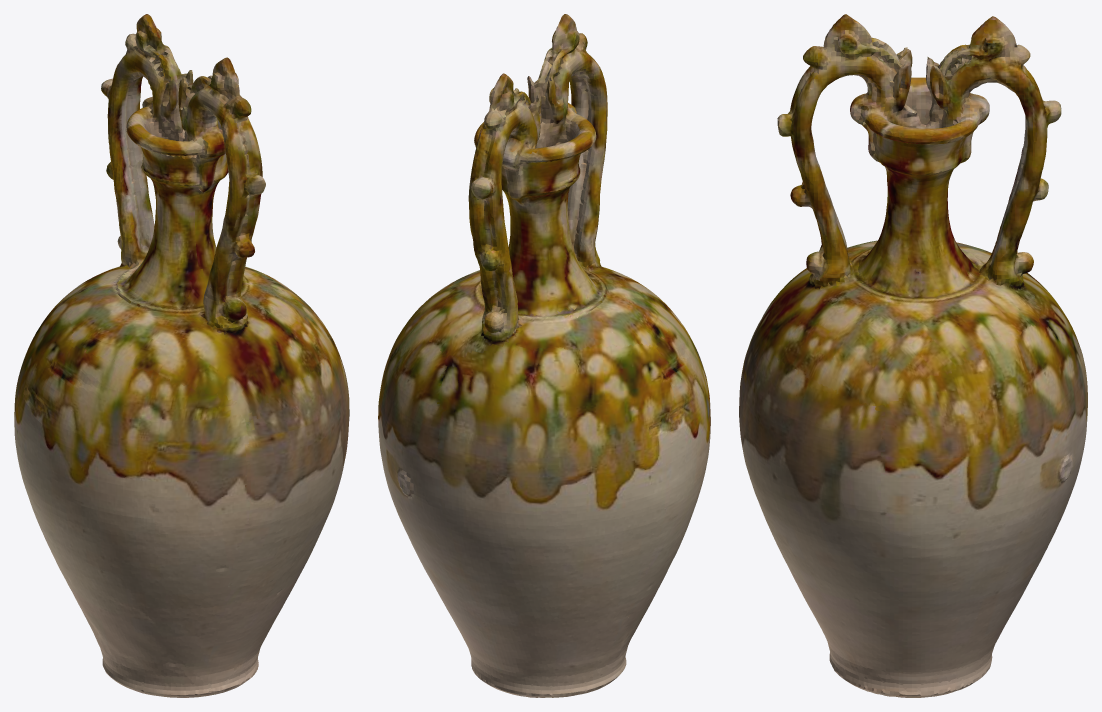
3 views of the same model, side by side, from view 1: azimuth 30°, elevation 25°; view 2: azimuth 150°, elevation 25°; view 3: azimuth 270°, elevation 25° (orthographic). The views are drawn at different scales.
Visible parts, largest first — view 1: BakeTarget; view 2: BakeTarget; view 3: BakeTarget.
Part boxes in pixels (x1,y1,x2,y2): BakeTarget: (14,14,349,697); BakeTarget: (378,14,710,697); BakeTarget: (739,14,1087,697).
Bounding box in the file's own units: 186 × 391 × 187.
Materials: 1 (1 with a texture image).
